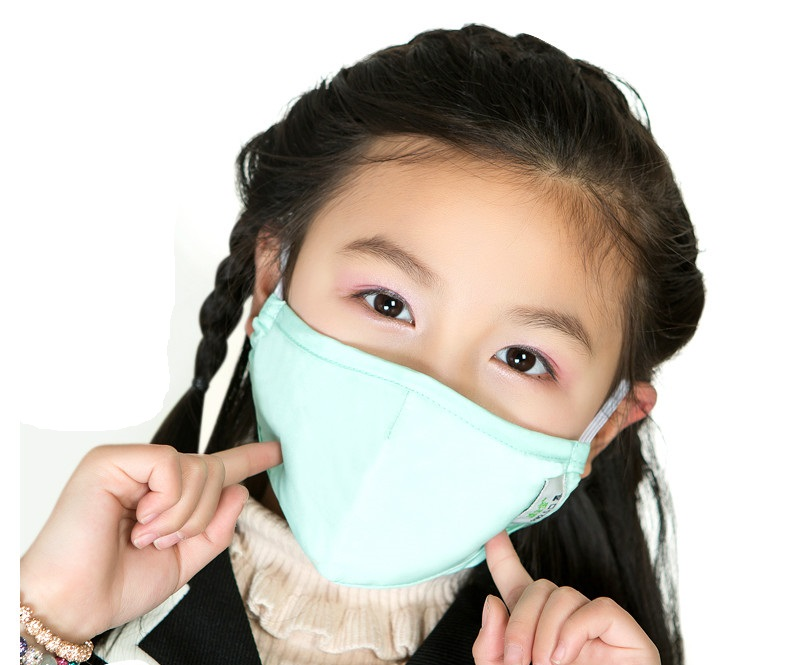face_mask: (256, 147, 601, 574)
